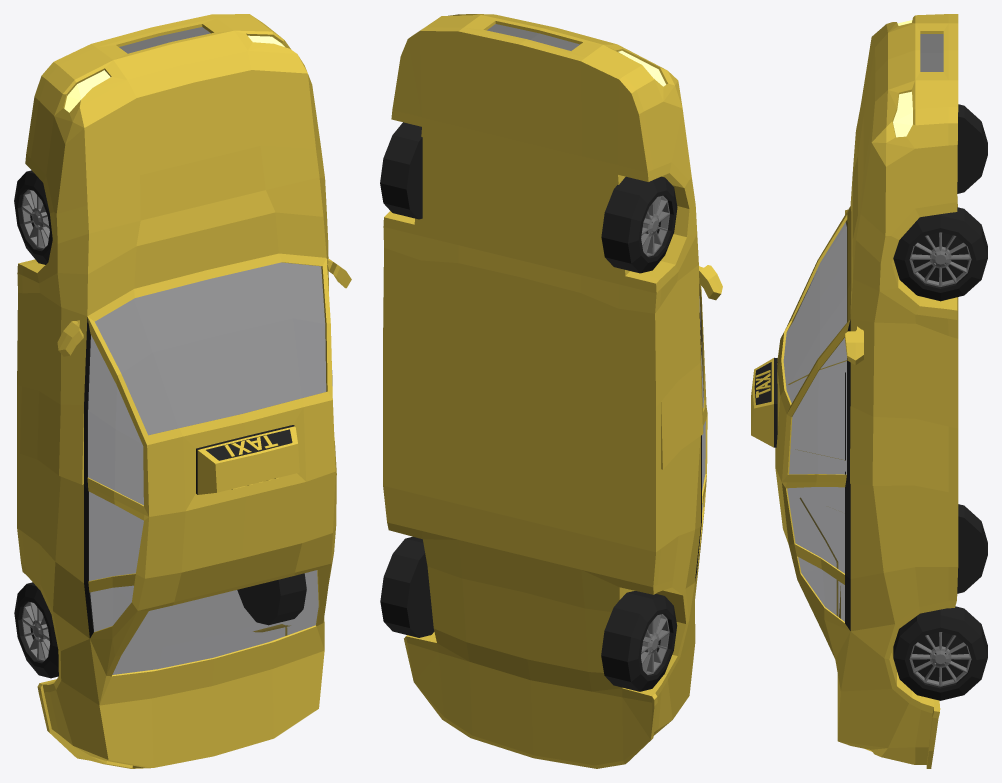
File: taxi.glb
3 views of the same model, side by side, from view 1: azimuth 30°, elevation 25°; view 2: azimuth 150°, elevation 25°; view 3: azimuth 270°, elevation 25° (orthographic). The views are drawn at different scales.
Visible parts, largest first — view 1: Taxi, Taxi_BackWheels, Taxi_FrontLeftWheel; view 2: Taxi, Taxi_BackWheels, Taxi_FrontLeftWheel, Taxi_FrontRightWheel; view 3: Taxi, Taxi_BackWheels, Taxi_FrontRightWheel, Taxi_FrontLeftWheel.
Part boxes in pixels (x1,y1,x2,y2): Taxi: (17,14,351,768); Taxi_BackWheels: (14,573,306,678); Taxi_FrontLeftWheel: (14,170,52,264); Taxi: (383,14,722,768); Taxi_BackWheels: (380,536,677,691); Taxi_FrontLeftWheel: (601,176,677,273); Taxi_FrontRightWheel: (380,122,422,219); Taxi: (751,14,958,768); Taxi_BackWheels: (893,504,987,700); Taxi_FrontRightWheel: (893,207,987,301); Taxi_FrontLeftWheel: (957,104,987,193).
Size of the model in its own units: 1.81 by 4.22 by 1.31.
